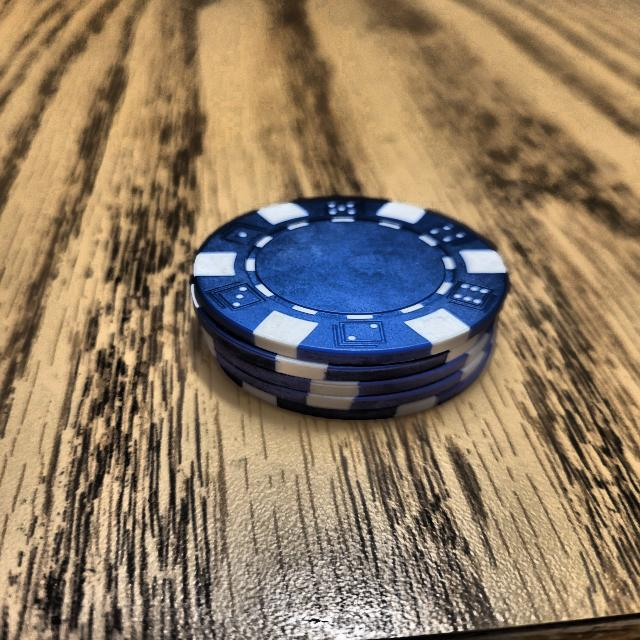Chip: (141, 180, 541, 430)
